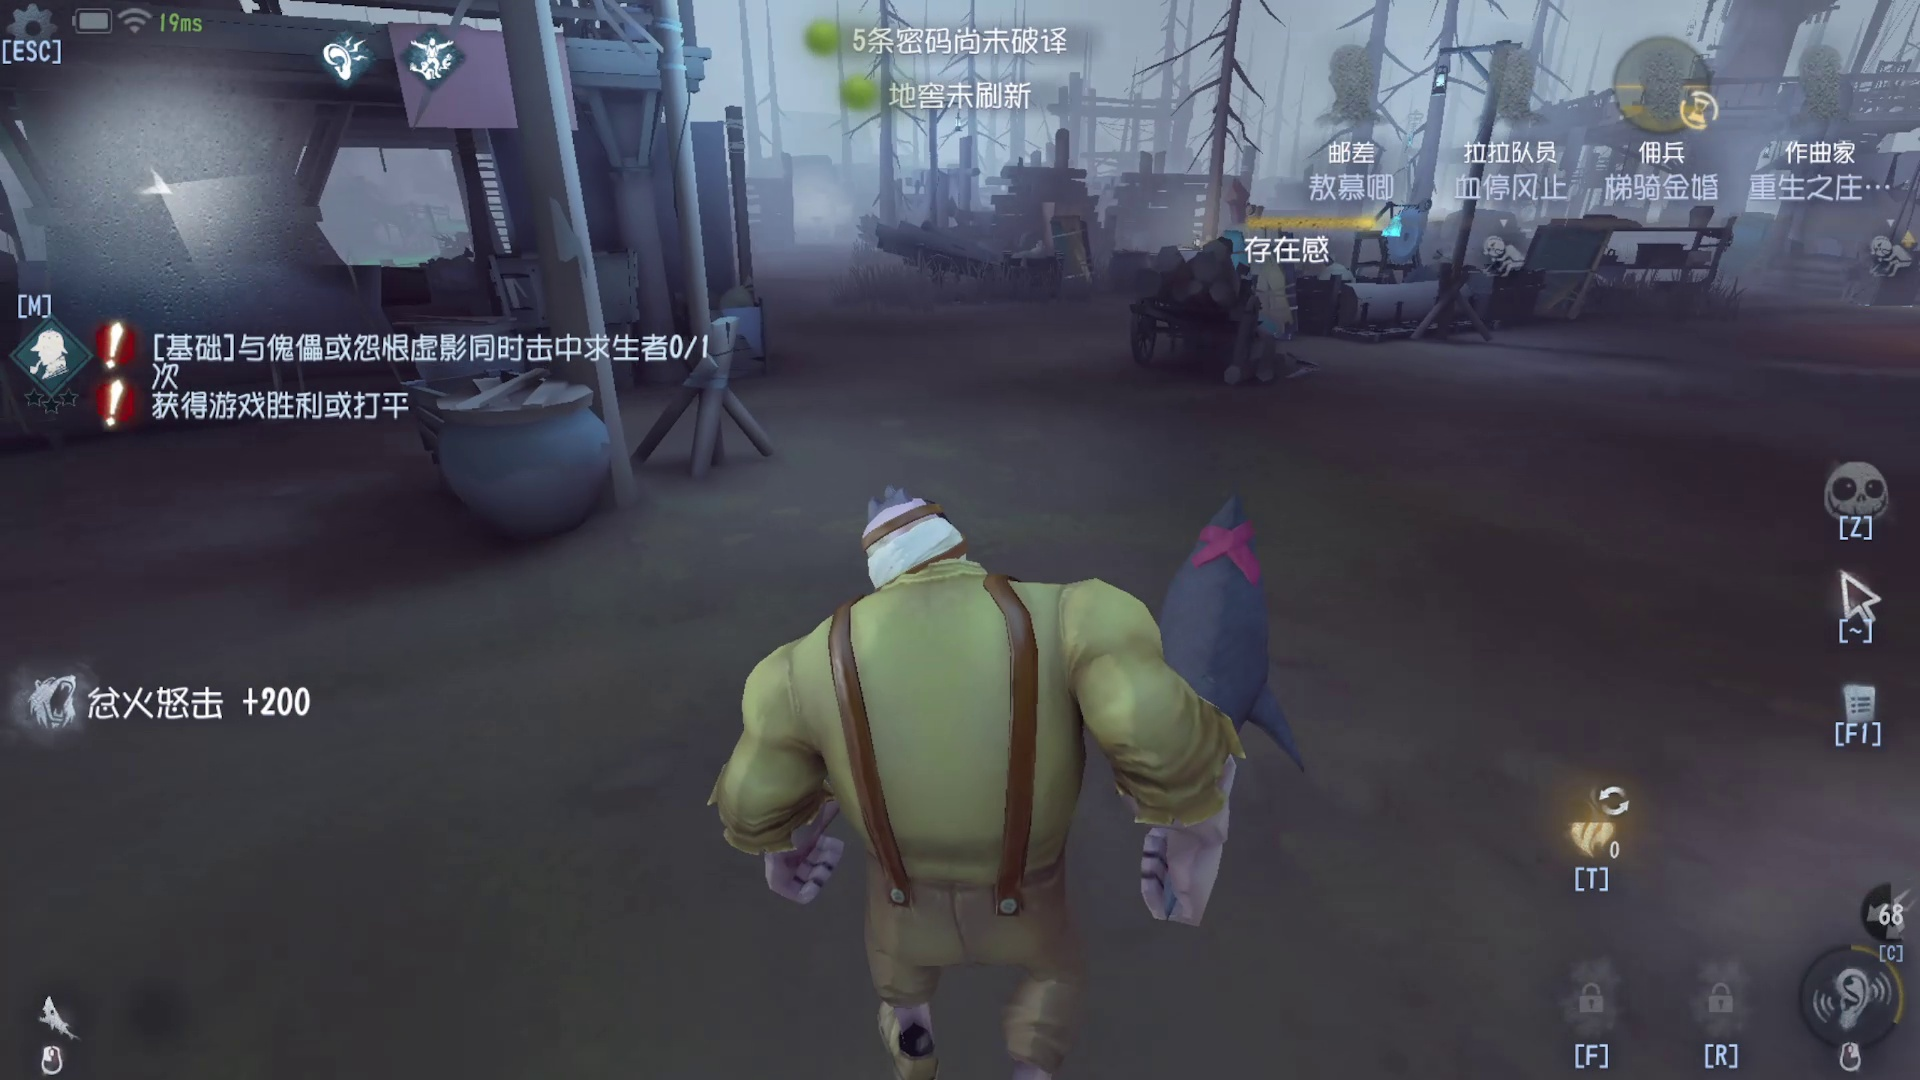密码机: (1373, 127, 1427, 272)
木板: (1207, 218, 1274, 338), (1048, 200, 1096, 298)
